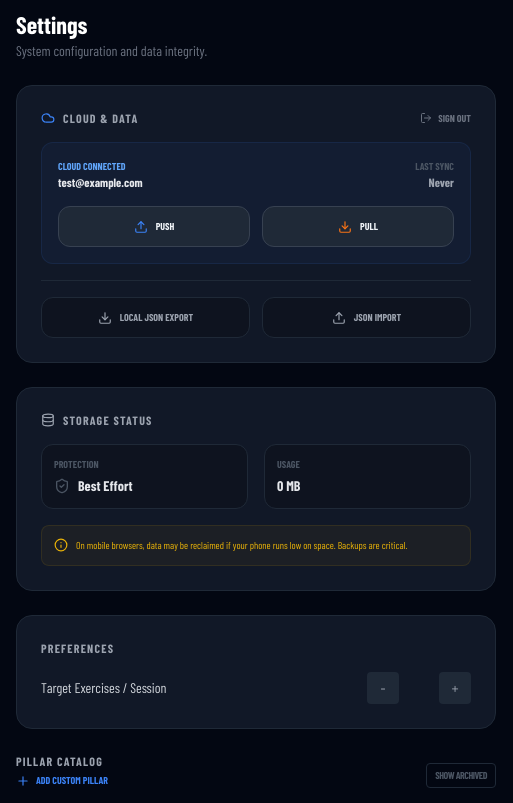
Scenario: Settings Component › handles sync errors gracefully
Click the button "Push". click: (154, 226)
box: [58, 206, 250, 247]
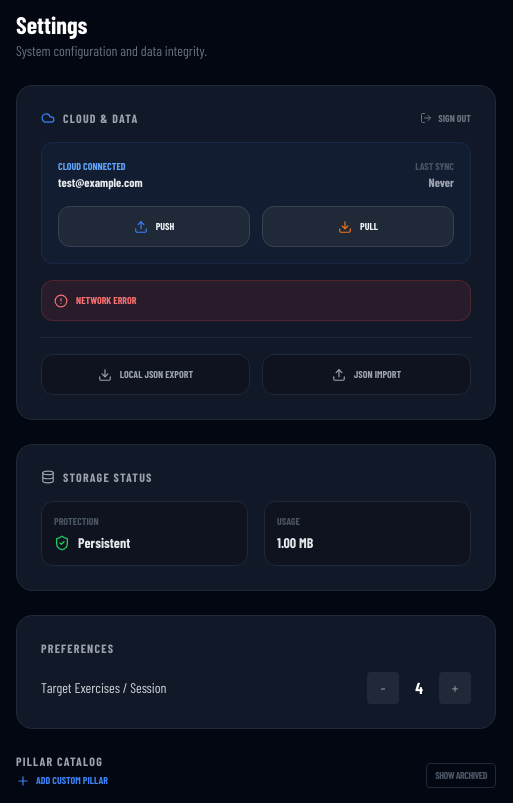
Now the text "Network Error" is shown, box [76, 293, 136, 308]
